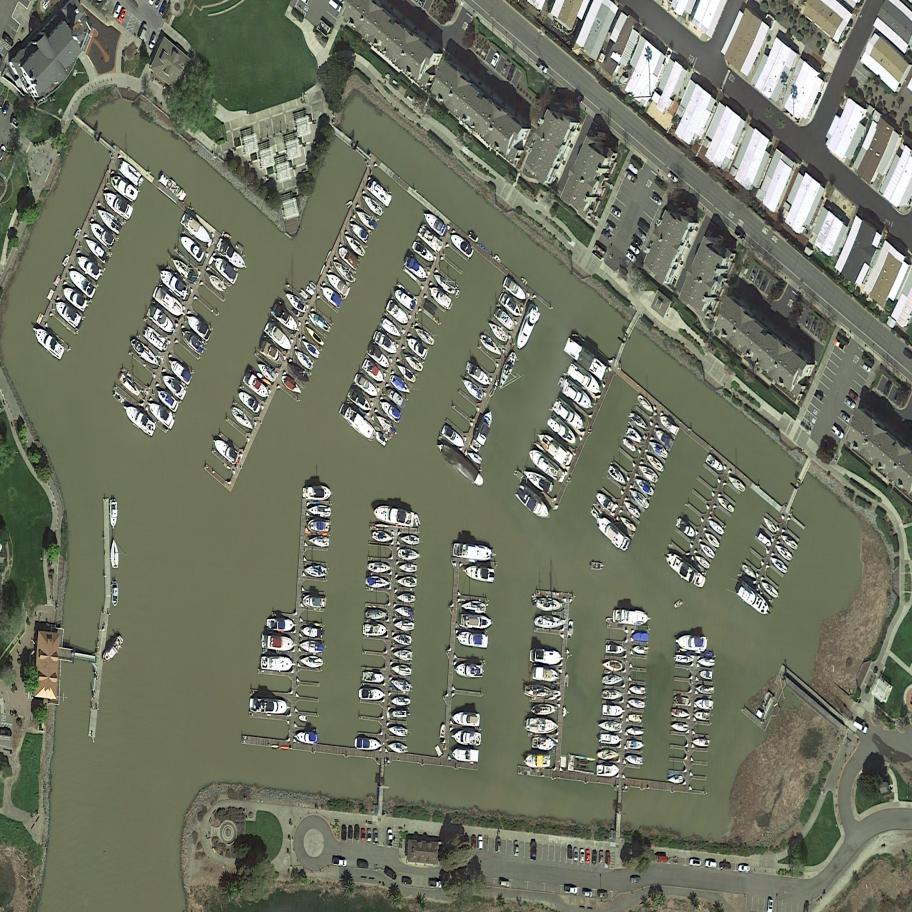large-vehicle: (851, 720, 870, 735), (654, 854, 669, 864)
ship: (432, 440, 488, 489), (560, 338, 611, 382), (334, 399, 381, 446), (510, 481, 556, 526), (732, 578, 778, 622), (524, 443, 570, 487), (532, 426, 577, 470), (590, 511, 634, 554), (26, 321, 70, 362), (564, 359, 608, 399), (660, 546, 701, 587), (557, 376, 599, 415), (119, 400, 160, 439), (148, 284, 190, 322), (542, 411, 582, 450), (512, 301, 541, 353), (213, 238, 253, 275), (550, 396, 590, 433), (468, 405, 497, 455), (259, 319, 297, 356), (177, 211, 216, 247), (105, 170, 143, 206), (142, 302, 180, 338), (155, 266, 192, 302), (520, 462, 557, 498), (126, 337, 164, 372), (98, 188, 137, 222), (268, 302, 305, 337), (371, 502, 417, 530), (64, 266, 100, 301), (143, 397, 179, 432), (114, 371, 150, 405), (208, 433, 244, 467), (240, 369, 274, 403), (138, 323, 173, 355), (209, 254, 242, 287), (156, 171, 189, 204), (50, 297, 84, 329), (71, 252, 106, 283), (84, 219, 119, 250), (168, 254, 201, 286), (226, 403, 259, 435), (92, 205, 126, 236), (255, 338, 289, 369), (350, 370, 382, 402), (363, 177, 396, 208), (495, 350, 519, 392), (176, 232, 208, 263), (475, 331, 507, 362), (370, 328, 402, 359), (382, 298, 414, 329), (58, 284, 91, 314), (499, 275, 532, 305), (400, 254, 433, 284), (449, 543, 498, 563), (359, 357, 390, 388), (158, 371, 190, 401), (418, 208, 450, 238), (98, 633, 126, 667), (464, 361, 495, 391), (345, 386, 376, 416), (283, 357, 314, 387), (364, 342, 395, 372), (424, 283, 456, 312), (114, 157, 145, 186), (183, 313, 214, 342), (457, 374, 488, 403), (496, 291, 527, 320), (446, 231, 477, 260), (591, 488, 621, 517), (177, 326, 207, 355), (430, 269, 460, 298), (322, 269, 352, 298), (165, 357, 196, 385), (234, 388, 265, 416), (438, 423, 469, 451), (377, 314, 406, 343), (335, 244, 364, 273), (329, 257, 358, 286), (81, 236, 111, 264), (490, 306, 520, 334), (316, 282, 346, 310), (386, 371, 415, 399), (281, 288, 310, 316), (340, 232, 369, 260), (249, 696, 291, 715), (403, 333, 431, 361), (278, 371, 306, 399), (409, 239, 438, 266), (358, 191, 387, 218), (524, 715, 560, 736), (372, 412, 400, 439), (391, 286, 419, 313), (375, 397, 404, 423), (154, 387, 182, 413), (484, 319, 512, 345), (457, 612, 493, 632), (565, 753, 597, 775), (626, 485, 653, 511), (203, 270, 230, 296), (290, 347, 317, 373), (253, 359, 280, 385), (307, 309, 334, 335), (352, 207, 380, 232), (523, 683, 559, 702), (462, 564, 496, 584), (612, 609, 652, 626), (605, 463, 631, 489), (383, 385, 409, 411), (399, 350, 427, 374), (393, 360, 419, 385), (298, 336, 324, 361), (635, 461, 662, 485), (411, 325, 438, 349), (346, 220, 373, 244), (261, 633, 295, 652), (529, 648, 564, 666), (673, 633, 708, 651), (674, 516, 699, 541), (766, 552, 792, 576), (645, 437, 671, 461), (656, 413, 682, 437), (633, 474, 658, 498), (643, 451, 668, 475), (456, 630, 489, 648), (303, 324, 327, 348), (534, 613, 567, 630), (261, 655, 294, 672), (627, 410, 651, 433), (623, 424, 647, 447), (757, 578, 782, 600), (725, 472, 748, 495), (616, 512, 639, 535), (777, 530, 801, 552), (703, 453, 727, 475), (652, 427, 676, 449), (450, 710, 481, 727), (451, 729, 482, 746), (451, 746, 480, 764), (535, 596, 565, 613), (455, 662, 485, 679), (695, 539, 718, 561), (635, 393, 658, 415), (266, 616, 297, 632), (772, 541, 795, 562), (353, 736, 383, 752), (531, 667, 560, 683), (691, 551, 713, 572), (701, 529, 723, 550), (621, 499, 643, 520), (738, 561, 760, 582), (714, 495, 737, 515), (302, 486, 332, 501), (523, 753, 551, 769), (463, 447, 485, 467), (530, 736, 557, 752), (530, 702, 558, 717), (358, 687, 386, 702), (705, 517, 726, 537), (301, 593, 327, 609), (460, 600, 487, 615), (298, 639, 325, 654), (596, 747, 621, 763), (755, 530, 775, 550), (759, 515, 780, 534), (293, 730, 319, 745), (307, 518, 331, 534), (620, 436, 640, 455), (304, 563, 329, 578), (307, 503, 332, 518), (299, 654, 324, 669), (362, 623, 388, 637), (596, 763, 620, 778), (601, 687, 625, 702), (597, 719, 622, 733), (361, 671, 386, 685), (365, 575, 390, 589), (602, 704, 625, 719), (397, 548, 421, 562), (366, 561, 391, 574), (371, 530, 394, 544), (395, 575, 418, 589), (300, 625, 324, 638), (110, 539, 120, 570), (601, 673, 623, 687), (308, 534, 330, 548), (372, 430, 390, 447), (604, 643, 627, 656), (389, 679, 412, 692), (600, 733, 622, 746), (393, 619, 415, 632), (390, 664, 412, 677), (109, 499, 118, 530), (602, 659, 623, 672), (109, 389, 126, 405), (365, 609, 387, 621), (387, 725, 409, 737), (392, 633, 412, 646), (693, 698, 714, 710), (395, 605, 416, 617), (392, 649, 413, 661), (110, 580, 119, 608), (624, 754, 644, 766), (626, 739, 646, 751), (625, 726, 645, 738), (388, 742, 408, 754), (674, 653, 694, 665), (400, 533, 420, 545), (396, 591, 416, 603), (466, 229, 482, 244), (694, 684, 715, 695), (670, 708, 691, 719), (696, 656, 715, 668), (670, 721, 689, 733), (691, 737, 710, 748), (399, 562, 418, 573), (632, 644, 649, 656), (626, 698, 646, 708), (391, 696, 411, 706), (628, 685, 646, 696), (693, 710, 711, 721), (673, 696, 691, 707), (698, 669, 714, 681), (630, 632, 649, 642), (667, 774, 684, 784), (590, 560, 605, 571), (627, 713, 643, 723), (672, 598, 685, 610), (60, 255, 72, 268), (46, 288, 57, 302), (297, 289, 310, 300), (52, 274, 63, 287), (439, 723, 447, 740), (304, 285, 316, 296), (35, 312, 45, 325), (391, 710, 407, 718), (493, 253, 503, 265), (567, 620, 574, 637), (73, 229, 83, 240), (137, 176, 146, 188), (520, 276, 529, 287), (557, 376, 565, 387), (454, 288, 461, 299), (564, 673, 569, 688), (299, 715, 308, 722)
small-vehicle: (647, 191, 666, 209), (829, 424, 847, 441), (533, 59, 551, 76), (382, 866, 400, 882), (635, 218, 652, 234), (622, 170, 639, 185), (626, 243, 643, 258), (629, 235, 645, 250), (1, 33, 17, 48), (137, 23, 149, 43), (489, 51, 502, 69), (843, 396, 858, 411), (732, 228, 748, 242), (665, 171, 681, 185), (759, 275, 771, 293), (803, 312, 815, 330), (500, 59, 512, 77), (147, 33, 159, 51), (837, 410, 852, 424), (634, 227, 648, 242), (608, 206, 623, 220), (754, 271, 766, 288), (506, 64, 517, 82), (814, 322, 825, 340), (748, 267, 759, 284), (846, 389, 860, 402), (111, 4, 122, 20), (157, 0, 168, 16), (117, 7, 127, 24), (530, 841, 538, 862), (704, 859, 719, 870), (603, 221, 616, 233), (810, 318, 820, 333), (332, 858, 347, 868), (1, 102, 11, 116), (861, 362, 873, 373), (689, 858, 701, 867), (738, 864, 750, 873), (387, 829, 393, 847), (357, 861, 369, 870), (578, 849, 585, 864), (495, 838, 502, 853), (429, 881, 442, 889), (564, 886, 577, 894), (572, 848, 579, 862), (719, 862, 731, 870), (514, 841, 520, 857), (498, 880, 510, 888), (597, 891, 609, 899), (591, 850, 597, 865), (354, 826, 360, 841), (372, 829, 378, 844), (341, 826, 347, 841), (401, 877, 412, 885), (598, 850, 604, 864), (630, 876, 642, 883), (347, 826, 353, 840), (586, 849, 591, 864), (367, 828, 372, 843), (568, 846, 573, 860), (478, 836, 483, 850), (361, 828, 366, 842), (583, 891, 592, 898), (606, 851, 610, 866), (472, 837, 476, 850)
